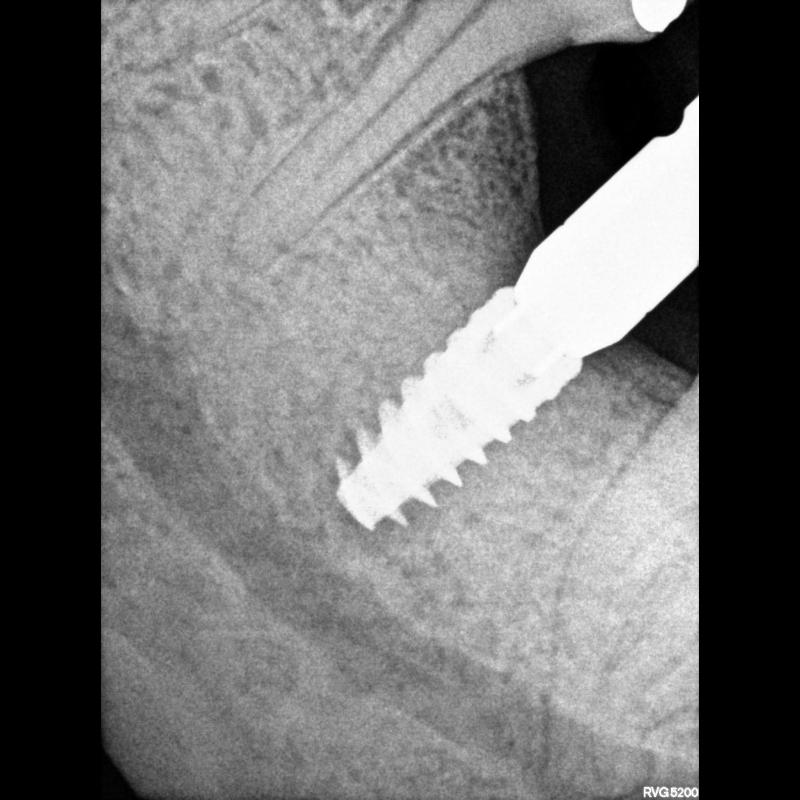ADIN: (323, 262, 591, 542)
